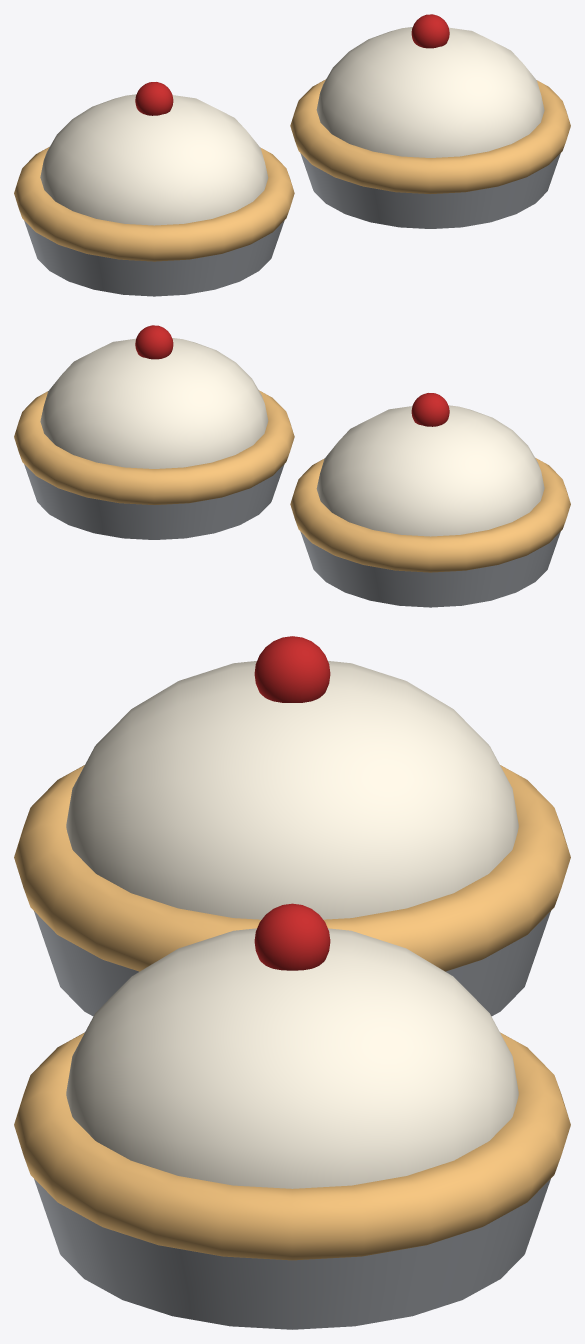
The model's file is cream_pies.fbx.
3 views of the same model, one above another, from view 1: azimuth 30°, elevation 25°; view 2: azimuth 150°, elevation 25°; view 3: azimuth 270°, elevation 25° (orthographic). The views are drawn at different scales.
Visible parts, largest first — view 1: Cream Pies; view 2: Cream Pies; view 3: Cream Pies.
Boxes of the visible parts, x1,y1,x2,y2 form: Cream Pies: (14, 14, 570, 296); Cream Pies: (14, 325, 570, 607); Cream Pies: (14, 636, 570, 1329).
Size of the model in its own units: 1.88 by 0.6 by 0.88.
